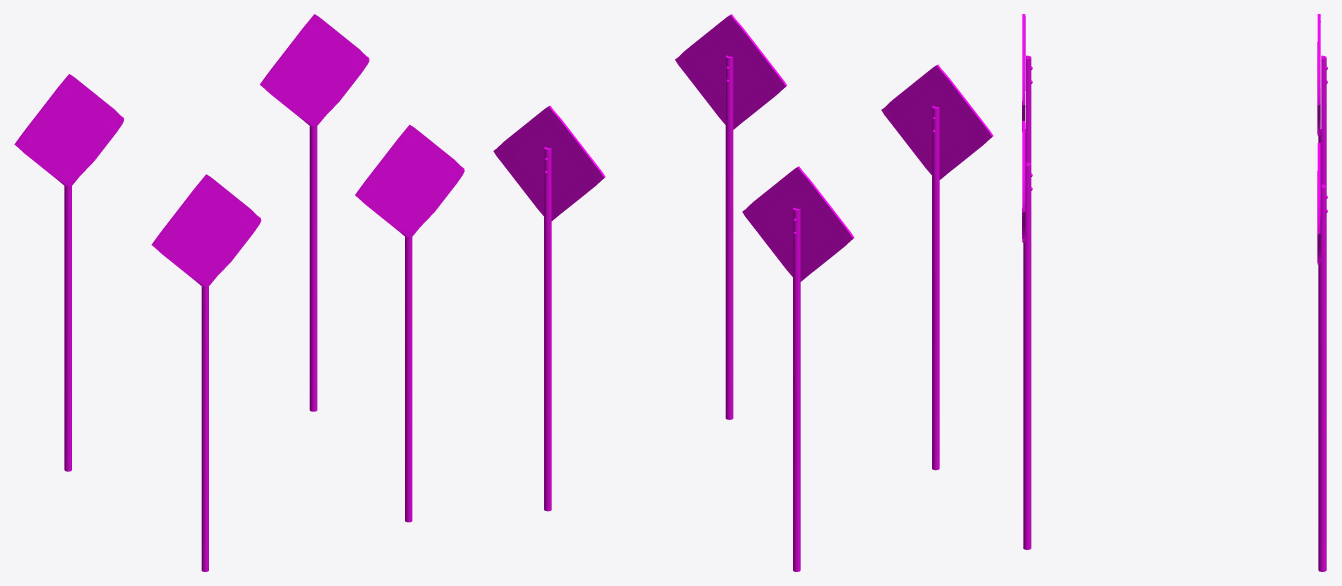
File: Boards.fbx
The picture shows the model from 3 angles, left to right: view 1: azimuth 30°, elevation 25°; view 2: azimuth 150°, elevation 25°; view 3: azimuth 270°, elevation 25°; orthographic projection. The views are drawn at different scales.
Visible parts, largest first — view 1: Board3, Board1, Board, Board2; view 2: Board, Board1, Board2, Board3; view 3: Board3, Board, Board2, Board1.
Part boxes in pixels (box(x1,y1,x2,y2)): Board3: box(260, 14, 369, 411); Board1: box(151, 174, 261, 571); Board: box(355, 124, 464, 522); Board2: box(14, 74, 123, 471); Board: box(675, 14, 787, 419); Board1: box(881, 64, 993, 470); Board2: box(742, 166, 854, 571); Board3: box(493, 105, 605, 511); Board3: box(1317, 143, 1327, 571); Board: box(1022, 121, 1032, 549); Board2: box(1317, 14, 1327, 257); Board1: box(1022, 14, 1032, 235).
Bounding box in the file's own units: 4.37 × 4.68 × 3.03.
